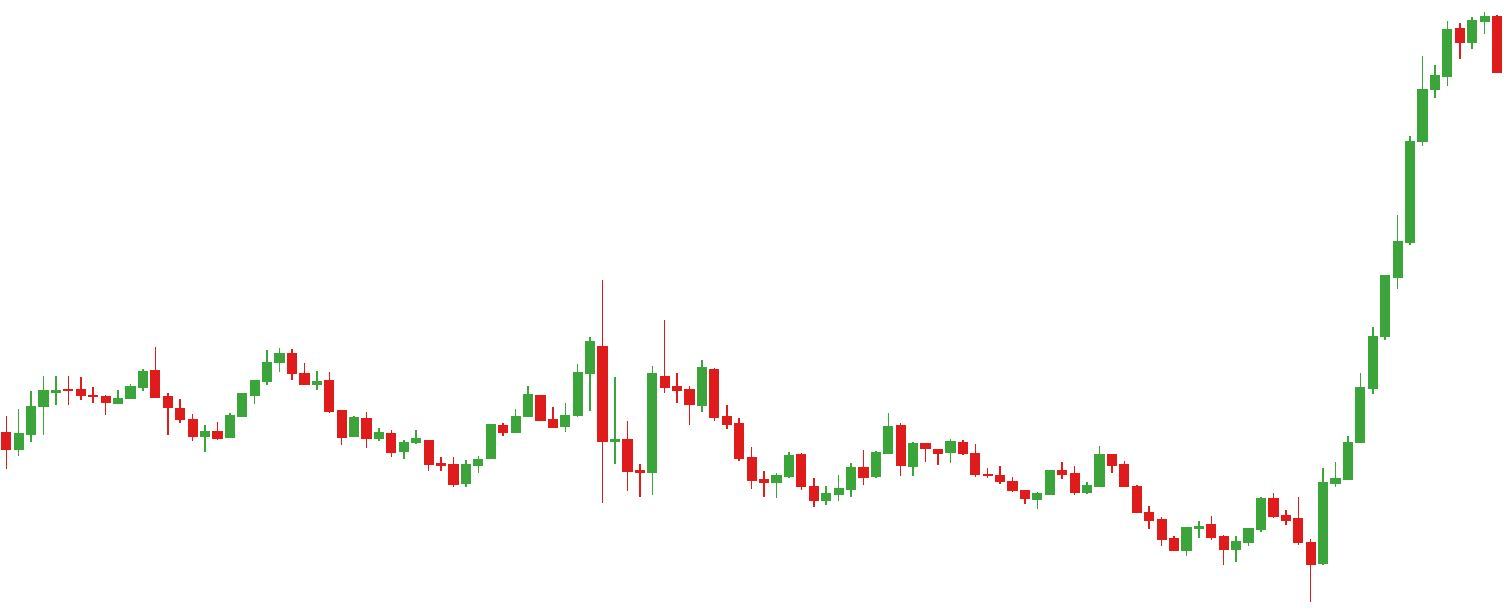buy: (1218, 512, 1330, 608)
